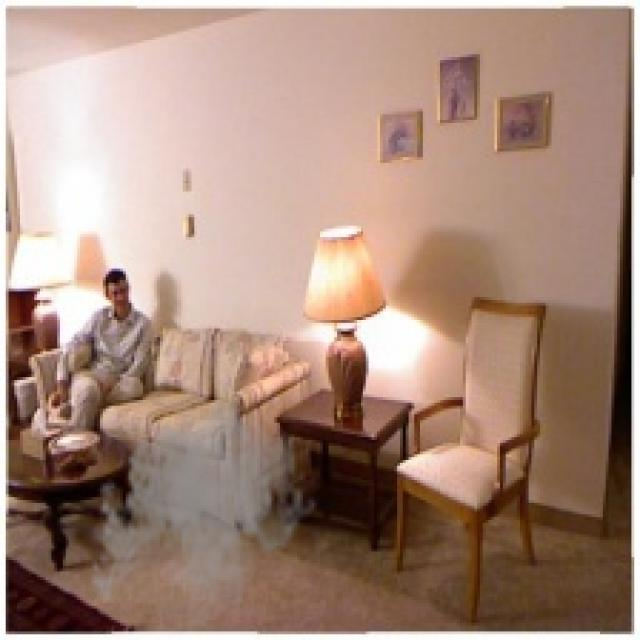smoke: (86, 394, 320, 637)
